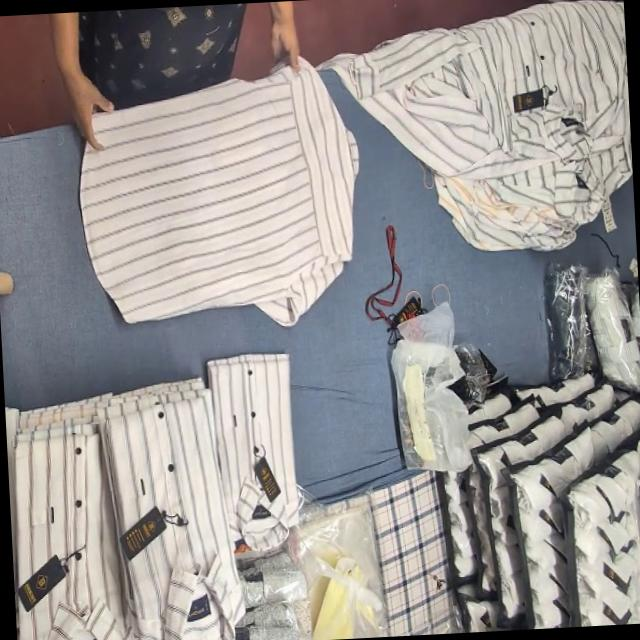new-garment: (81, 60, 358, 324)
